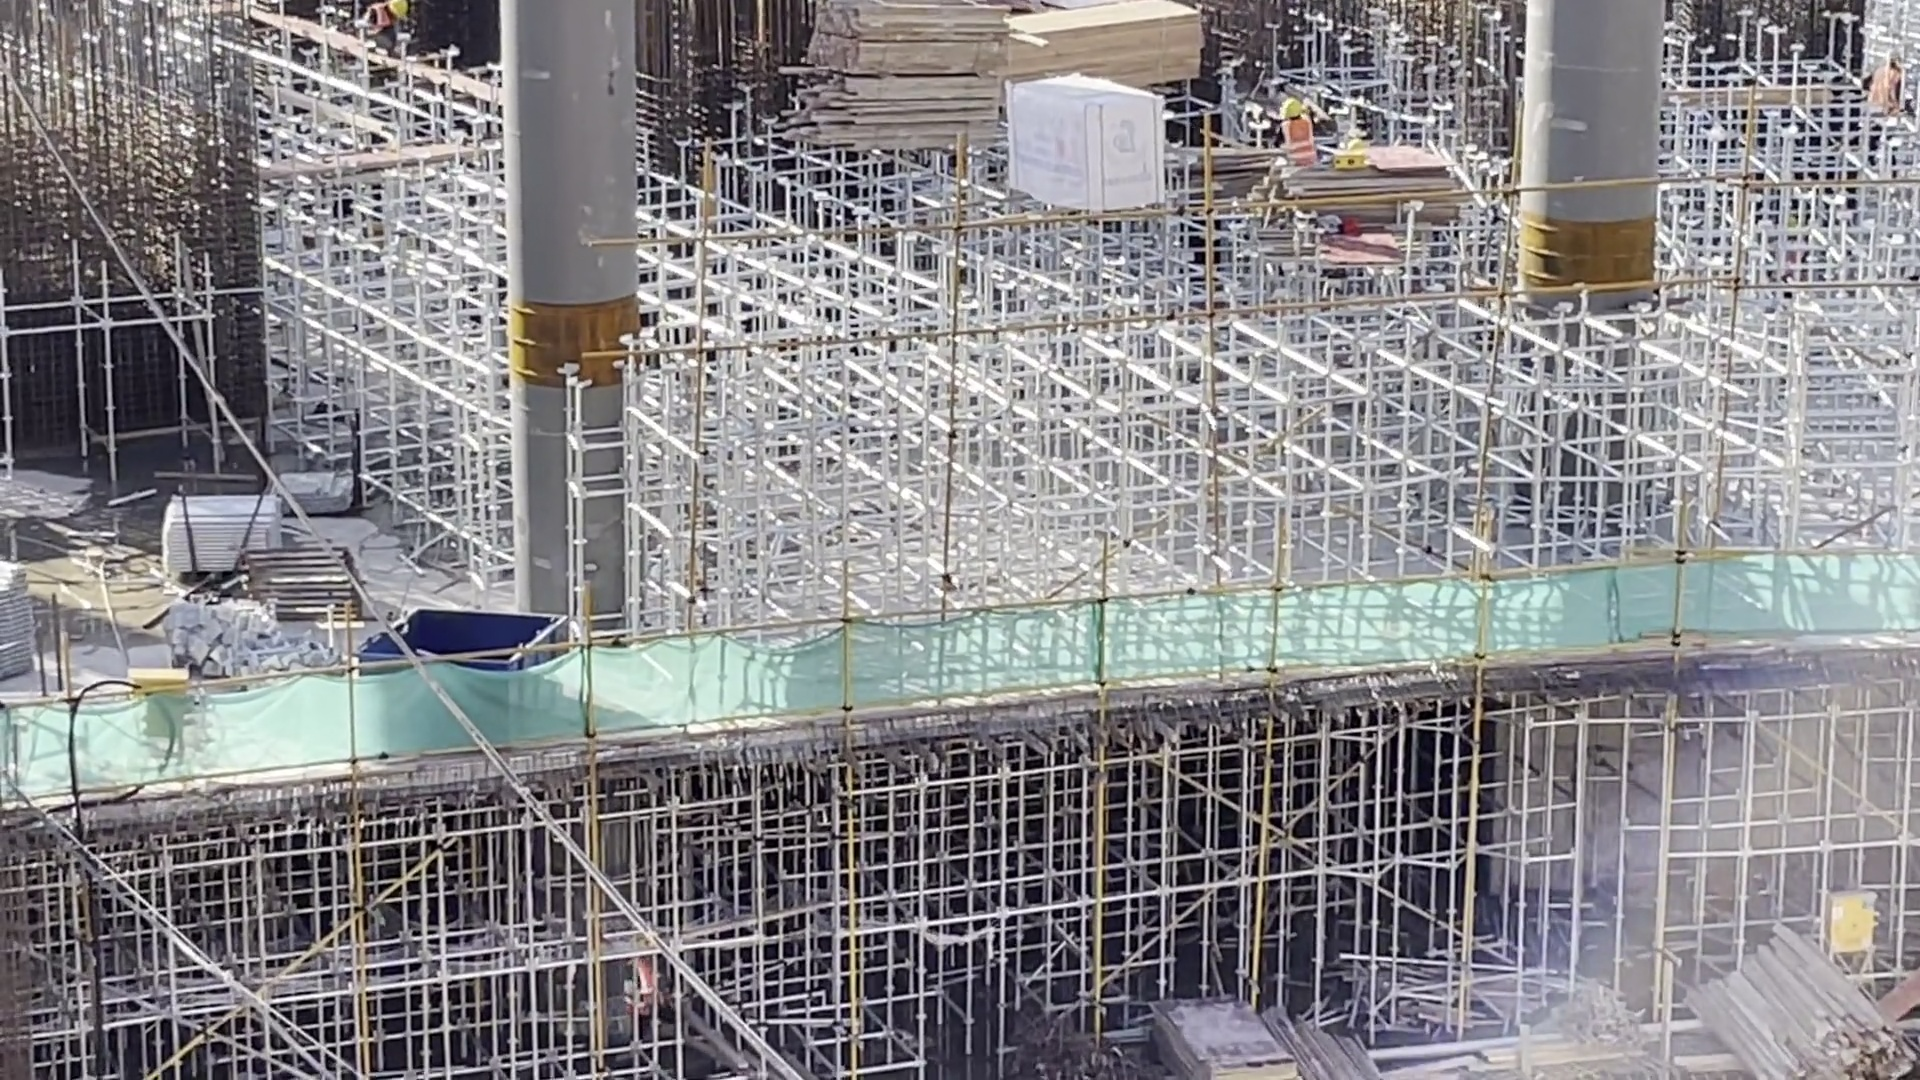board: (1262, 142, 1469, 228), (1144, 989, 1304, 1079)
ebox: (1824, 886, 1882, 964), (119, 661, 192, 693)
helmet: (1279, 98, 1303, 119)
hopper: (348, 606, 582, 663)
person: (1273, 97, 1320, 166)
scaffold: (152, 490, 250, 575)
vest: (1280, 119, 1319, 165)
wood: (1681, 920, 1918, 1080), (775, 2, 1001, 153), (1001, 4, 1207, 82)
